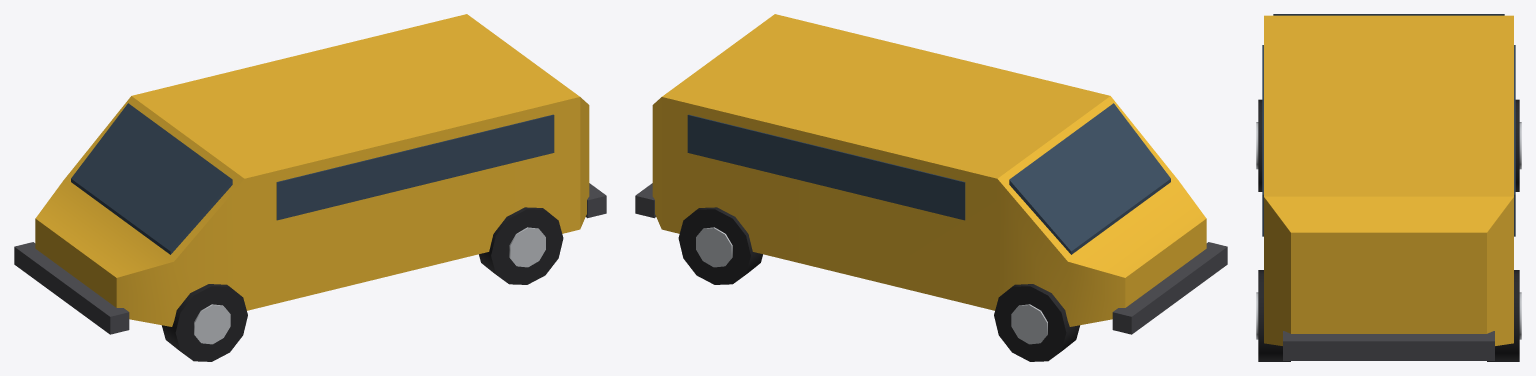
Rendered from car_van_yellow.fbx.
3 renders of one model, left to right at view 1: azimuth 30°, elevation 25°; view 2: azimuth 150°, elevation 25°; view 3: azimuth 270°, elevation 25°, orthographic. The views are drawn at different scales.
Visible parts, largest first — view 1: Body, Wheel_FR, Wheel_RR; view 2: Body, Wheel_FL, Wheel_RL; view 3: Body, Wheel_RL, Wheel_RR, Wheel_FL, Wheel_FR.
Part boxes in pixels (x1,y1,x2,y2): Body: (14, 14, 606, 334); Wheel_FR: (162, 284, 247, 361); Wheel_RR: (479, 207, 563, 284); Body: (635, 14, 1227, 334); Wheel_FL: (994, 284, 1079, 361); Wheel_RL: (678, 207, 762, 284); Body: (1262, 14, 1515, 360); Wheel_RL: (1487, 270, 1521, 361); Wheel_RR: (1256, 270, 1290, 361); Wheel_FL: (1515, 99, 1521, 191); Wheel_FR: (1256, 99, 1262, 191).
Bounding box in the file's own units: 4.66 × 1.55 × 1.95.
